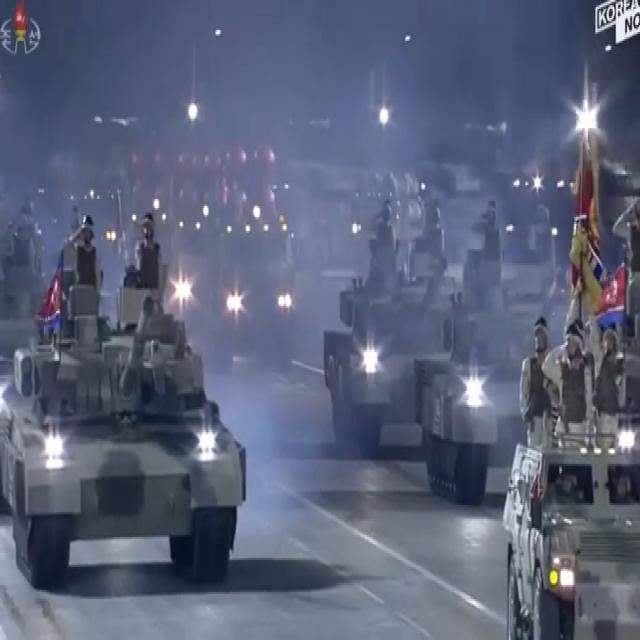north tank: (0, 201, 258, 601), (419, 200, 589, 503), (276, 184, 461, 459), (490, 396, 640, 640)
